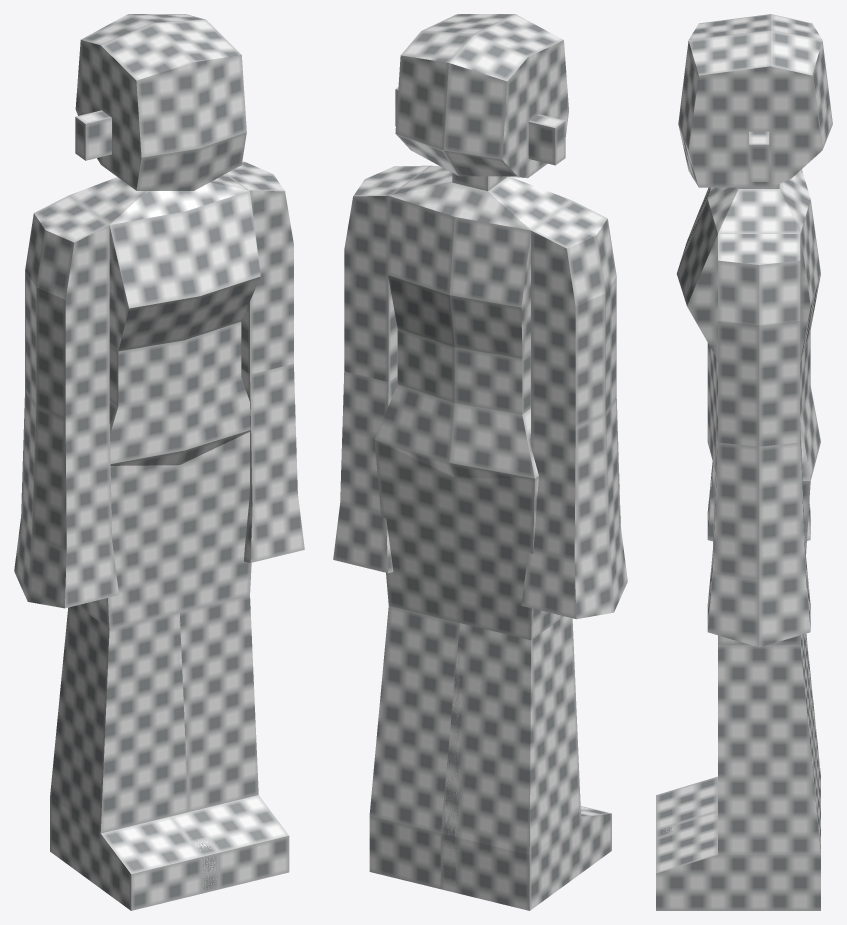
The model's file is female_character.fbx.
3 views of the same model, side by side, from view 1: azimuth 30°, elevation 25°; view 2: azimuth 150°, elevation 25°; view 3: azimuth 270°, elevation 25° (orthographic).
Parts seen in each view (by area): view 1: right_shin_mesh, head_mesh, chest_mesh, left_shin_mesh, right_forearm_mesh, right_arm_mesh, hip_mesh, right_thigh_mesh, left_thigh_mesh, left_forearm_mesh, left_arm_mesh, ears_mesh; view 2: right_shin_mesh, chest_mesh, head_mesh, left_shin_mesh, hip_mesh, right_arm_mesh, right_forearm_mesh, right_thigh_mesh, left_thigh_mesh, left_arm_mesh, left_forearm_mesh, ears_mesh; view 3: left_shin_mesh, head_mesh, left_forearm_mesh, left_arm_mesh, chest_mesh, hip_mesh, right_shin_mesh, ears_mesh, left_thigh_mesh, right_forearm_mesh.
Boxes of the visible parts, x1=… form: right_shin_mesh: x1=50, y1=605, x2=218, y2=910; head_mesh: x1=75, y1=14, x2=246, y2=190; chest_mesh: x1=69, y1=173, x2=260, y2=351; left_shin_mesh: x1=171, y1=595, x2=289, y2=892; right_forearm_mesh: x1=14, y1=390, x2=118, y2=608; right_arm_mesh: x1=25, y1=195, x2=109, y2=419; hip_mesh: x1=109, y1=321, x2=250, y2=465; right_thigh_mesh: x1=77, y1=465, x2=179, y2=629; left_thigh_mesh: x1=179, y1=432, x2=251, y2=611; left_forearm_mesh: x1=241, y1=364, x2=304, y2=562; left_arm_mesh: x1=226, y1=161, x2=293, y2=374; ears_mesh: x1=75, y1=110, x2=111, y2=160; right_shin_mesh: x1=440, y1=616, x2=611, y2=910; chest_mesh: x1=388, y1=165, x2=571, y2=358; head_mesh: x1=395, y1=14, x2=568, y2=178; left_shin_mesh: x1=369, y1=606, x2=459, y2=890; hip_mesh: x1=375, y1=328, x2=538, y2=478; right_arm_mesh: x1=531, y1=200, x2=616, y2=427; right_forearm_mesh: x1=521, y1=398, x2=627, y2=619; right_thigh_mesh: x1=454, y1=476, x2=563, y2=640; left_thigh_mesh: x1=374, y1=440, x2=459, y2=622; left_arm_mesh: x1=344, y1=165, x2=429, y2=381; left_forearm_mesh: x1=333, y1=371, x2=397, y2=573; ears_mesh: x1=395, y1=87, x2=565, y2=165; left_shin_mesh: x1=656, y1=634, x2=820, y2=910; head_mesh: x1=678, y1=14, x2=832, y2=187; left_forearm_mesh: x1=707, y1=423, x2=810, y2=647; left_arm_mesh: x1=718, y1=234, x2=800, y2=446; chest_mesh: x1=676, y1=169, x2=820, y2=359; hip_mesh: x1=707, y1=330, x2=820, y2=480; right_shin_mesh: x1=656, y1=634, x2=820, y2=838; ears_mesh: x1=749, y1=131, x2=769, y2=181; left_thigh_mesh: x1=718, y1=481, x2=810, y2=644; right_forearm_mesh: x1=707, y1=462, x2=810, y2=541.
Bounding box in the file's own units: 93.75 × 281 × 53.6.
1 material, 1 textured.
